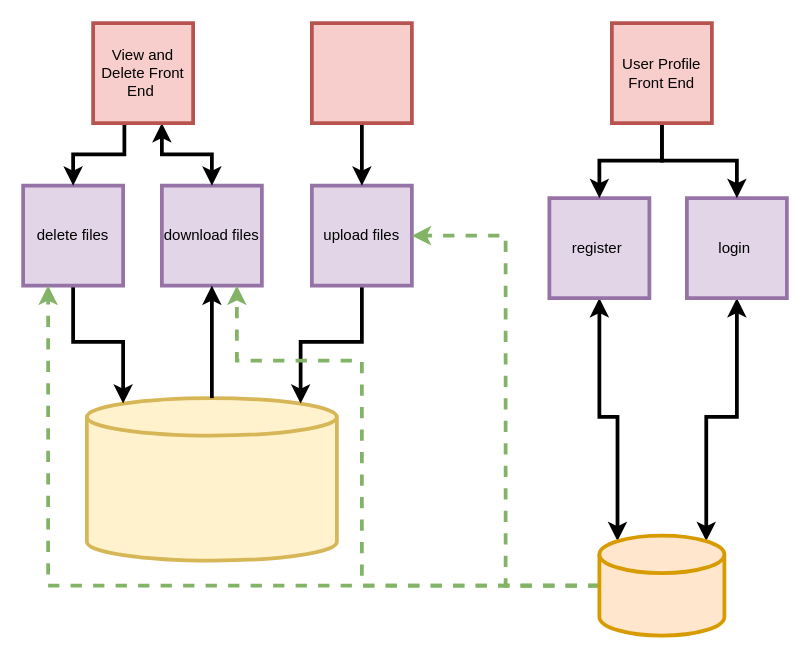
This 810x668 diagram has some shape labels left out. The centre of each missing label's shape, as x and y in pixels:
Cloud File Storage System: (211,479)
Upload Files Front End: (361,72)
User Credential Database: (661,585)
